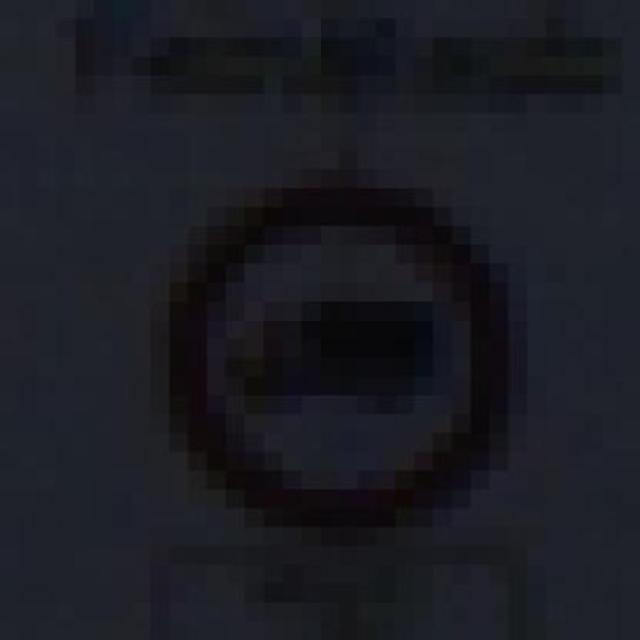Truck traffic is prohibited: (112, 132, 546, 546)
